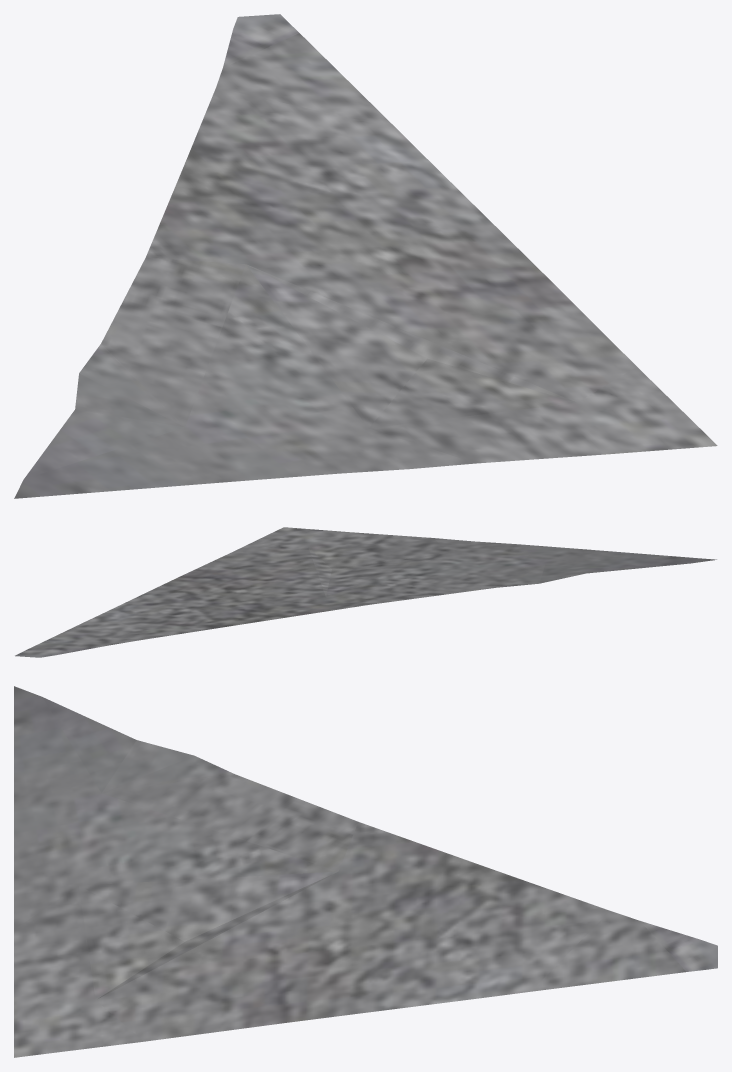
3 renders of one model, top to bottom at view 1: azimuth 30°, elevation 25°; view 2: azimuth 150°, elevation 25°; view 3: azimuth 270°, elevation 25°, orthographic. The views are drawn at different scales.
Bounding box in the file's own units: 1.55 × 0.251 × 1.67.
2 materials, 2 textured.
